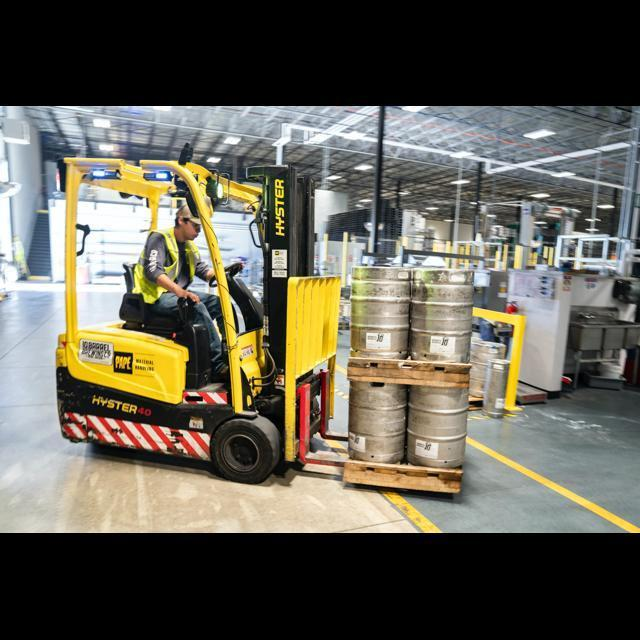safety_vest: (134, 236, 198, 302)
